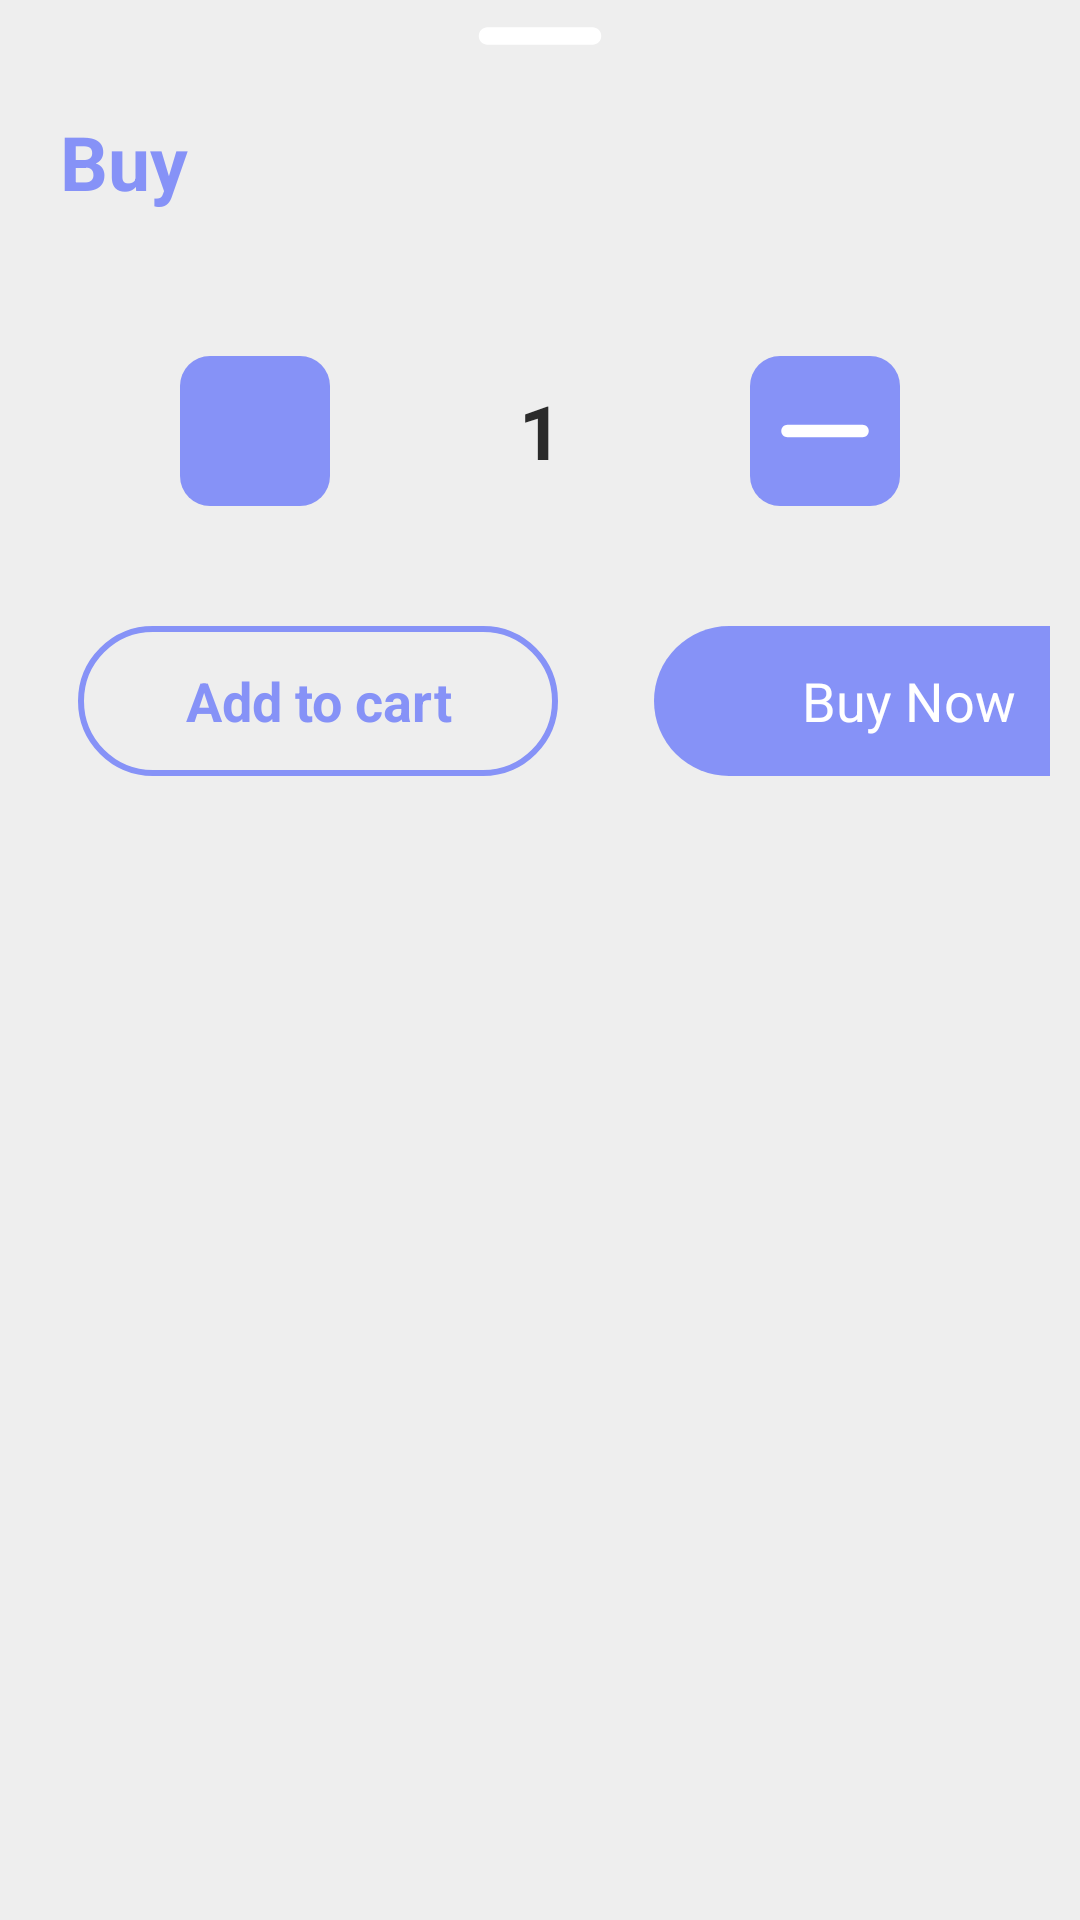

Icon click points for this 1080 × 1920 phone screenshot, format (x=x, y=y):
remove: (x=825, y=431)
